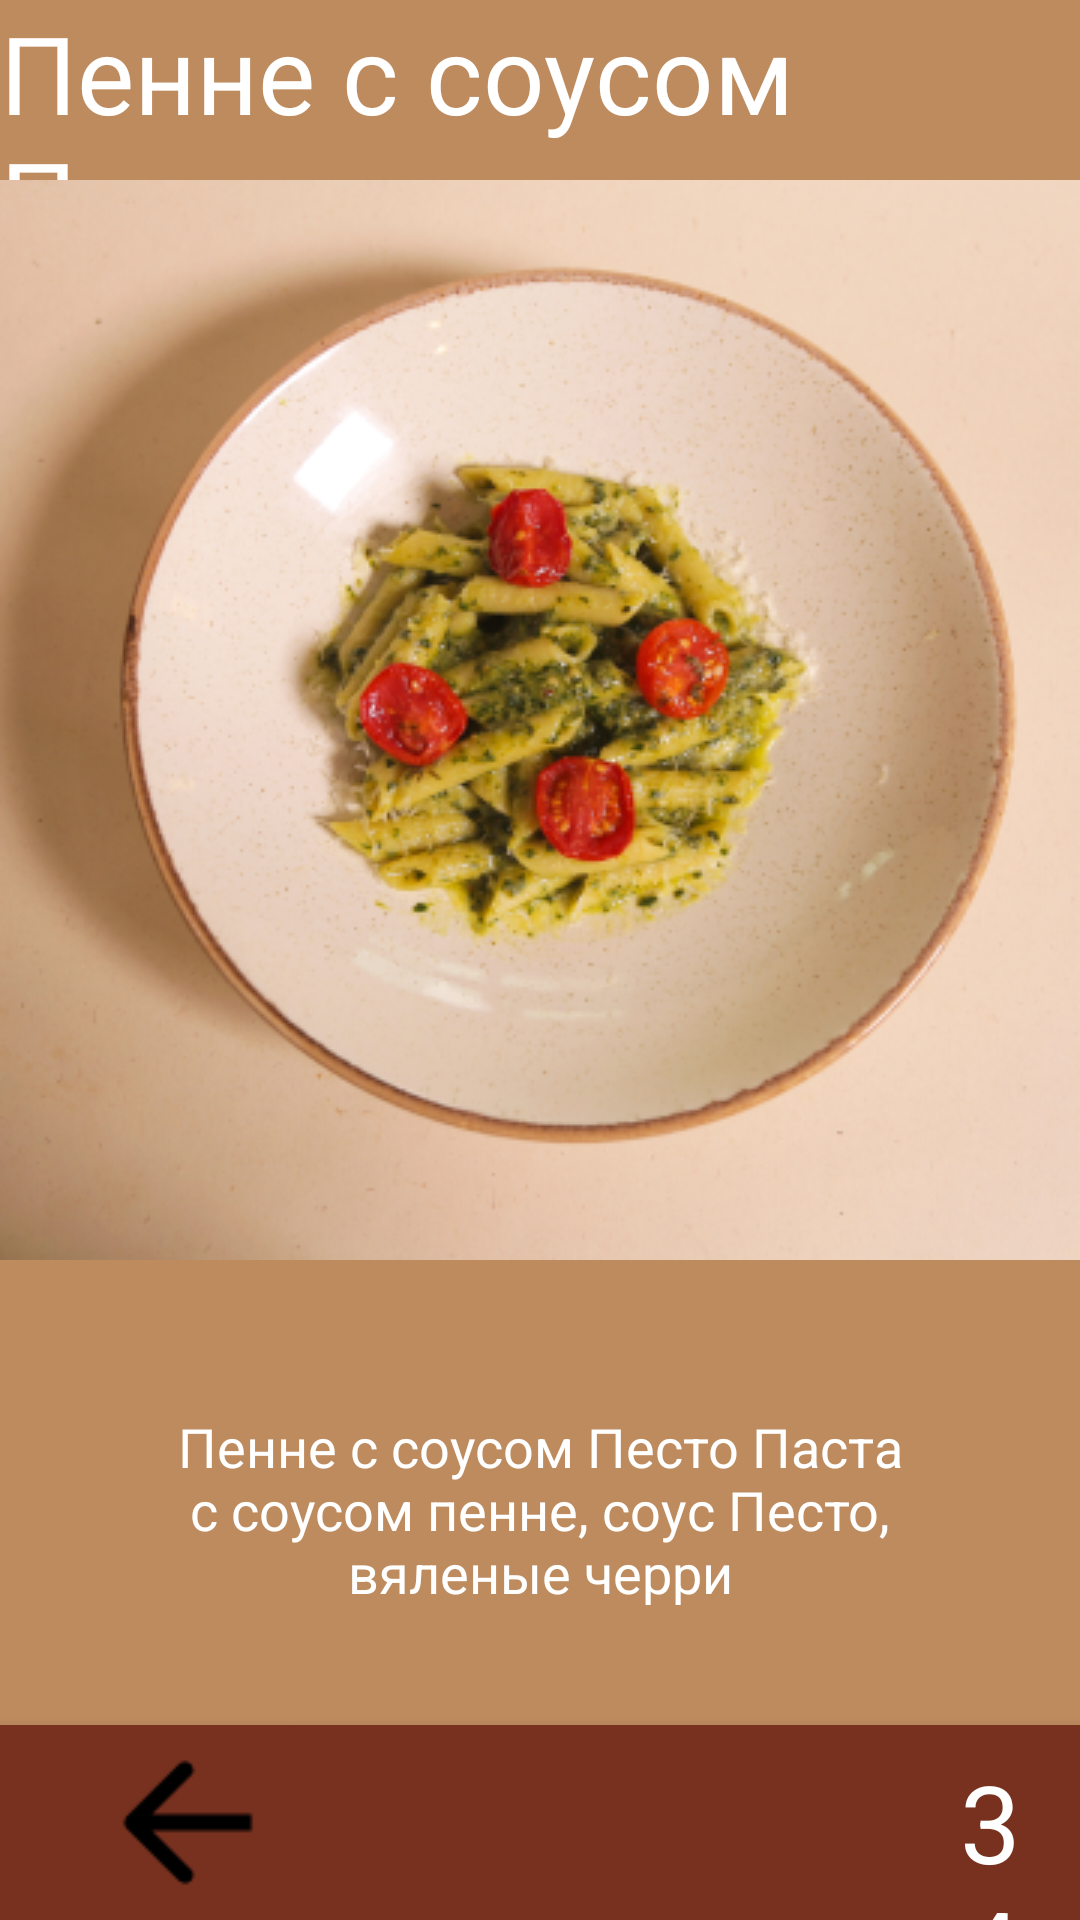

Named icons in this screenshot (1080*1920) and their centers, (x,y):
backback: (188,1822)
